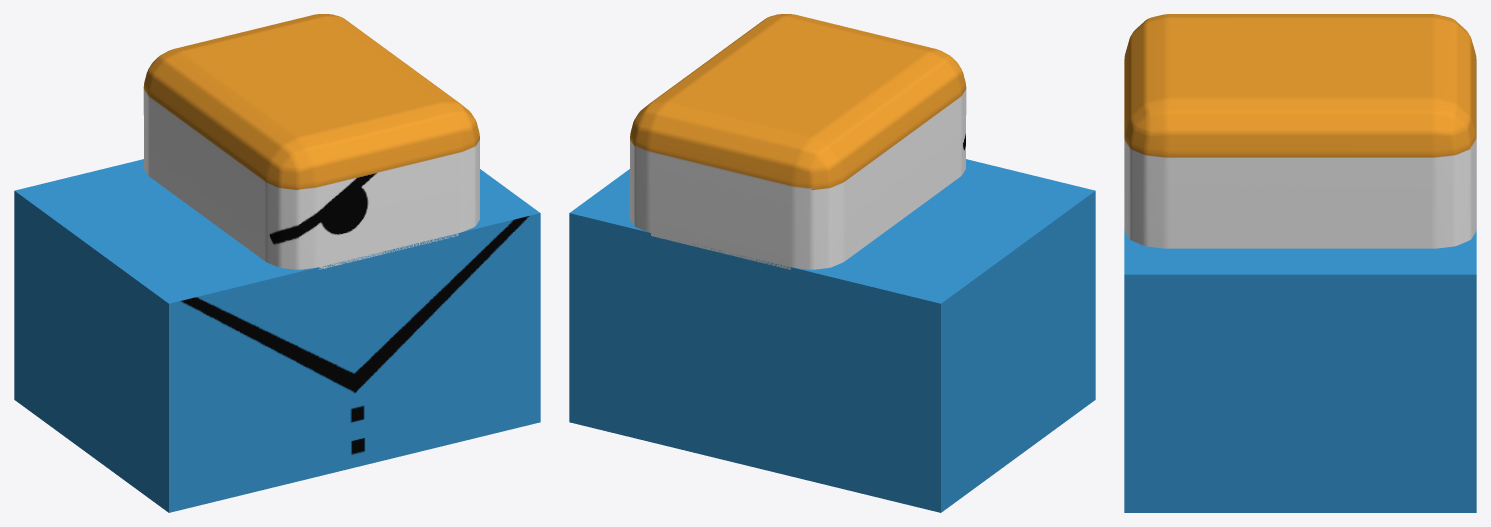
The model's file is bad vincenzo.fbx.
The picture shows the model from 3 angles, left to right: view 1: azimuth 30°, elevation 25°; view 2: azimuth 150°, elevation 25°; view 3: azimuth 270°, elevation 25°; orthographic projection. The views are drawn at different scales.
Visible parts, largest first — view 1: pCube25; view 2: pCube25; view 3: pCube25.
Part boxes in pixels (box(x1,y1,x2,y2)): pCube25: box(14, 14, 540, 512); pCube25: box(569, 14, 1095, 512); pCube25: box(1124, 14, 1476, 512).
Size of the model in its own units: 3.67 by 3.07 by 2.64.
